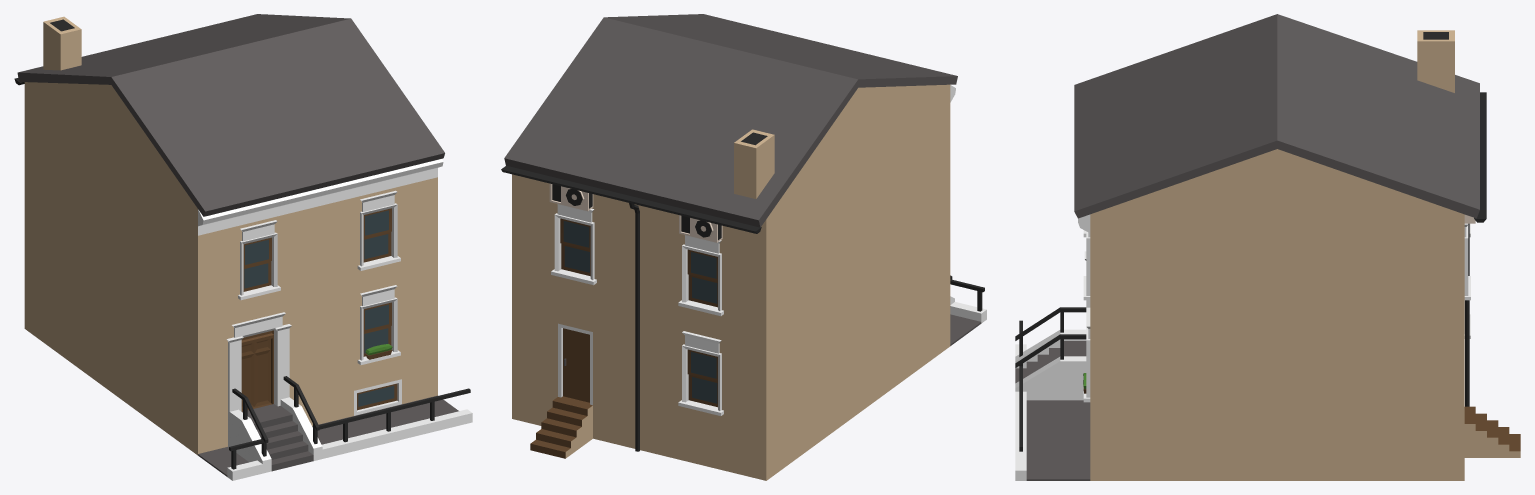
The model's file is buildings_building-house-block-big.fbx.
The picture shows the model from 3 angles, left to right: view 1: azimuth 30°, elevation 25°; view 2: azimuth 150°, elevation 25°; view 3: azimuth 270°, elevation 25°; orthographic projection. The views are drawn at different scales.
Visible parts, largest first — view 1: buildings_building_house_block_big; view 2: buildings_building_house_block_big; view 3: buildings_building_house_block_big.
Boxes of the visible parts, x1,y1,x2,y2 form: buildings_building_house_block_big: (14,14,472,480); buildings_building_house_block_big: (501,14,986,480); buildings_building_house_block_big: (1015,14,1520,480).
Bounding box in the file's own units: 118 × 149 × 200.
